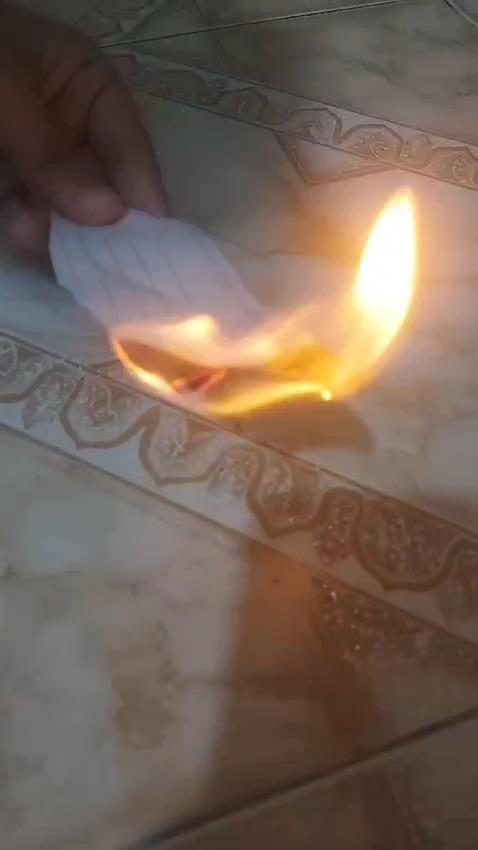Fire: (110, 189, 430, 435)
